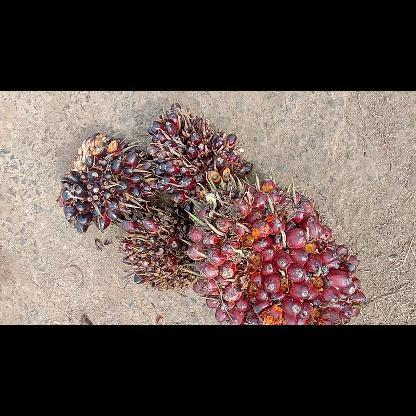TBS abnormal: (147, 102, 253, 212), (56, 132, 156, 232), (119, 204, 193, 288)
TBS masak: (189, 178, 367, 324)
